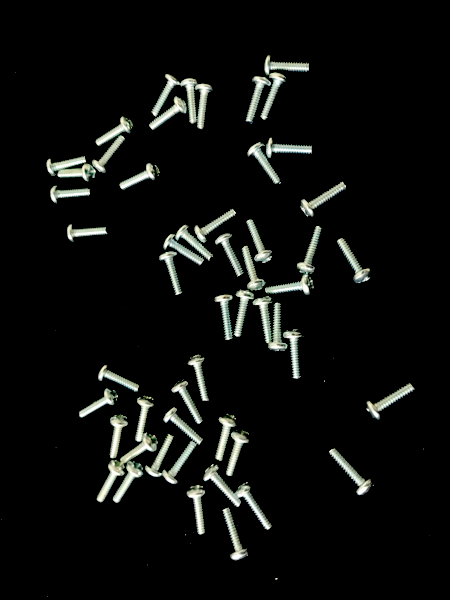shortscrew: (328, 448, 376, 497), (364, 383, 416, 421), (235, 481, 272, 530), (301, 181, 348, 218), (337, 238, 374, 284), (203, 464, 242, 507), (163, 441, 198, 485), (164, 407, 204, 445), (224, 508, 252, 562), (195, 208, 238, 243), (248, 142, 282, 186), (176, 224, 215, 261), (171, 380, 203, 424), (215, 233, 245, 279), (113, 462, 145, 505), (163, 234, 205, 266), (246, 219, 275, 265), (149, 97, 188, 131), (297, 226, 324, 275), (145, 433, 175, 477), (97, 460, 126, 505), (78, 388, 120, 419), (92, 136, 126, 174), (152, 73, 182, 116), (261, 73, 288, 120), (246, 75, 271, 125), (98, 364, 142, 392), (187, 485, 210, 537), (241, 246, 267, 292), (95, 116, 136, 145), (121, 432, 158, 464), (227, 431, 253, 476), (119, 163, 162, 190), (284, 329, 306, 380), (265, 275, 316, 297), (187, 354, 210, 402), (159, 252, 184, 296), (216, 414, 239, 461), (264, 55, 311, 78), (268, 302, 289, 353), (135, 397, 157, 443), (253, 296, 274, 344), (235, 289, 256, 337), (110, 415, 131, 461), (214, 293, 234, 341), (267, 138, 314, 158), (47, 155, 88, 177), (196, 83, 215, 130), (67, 223, 111, 243), (50, 186, 93, 205), (180, 78, 197, 124), (58, 165, 98, 183)
